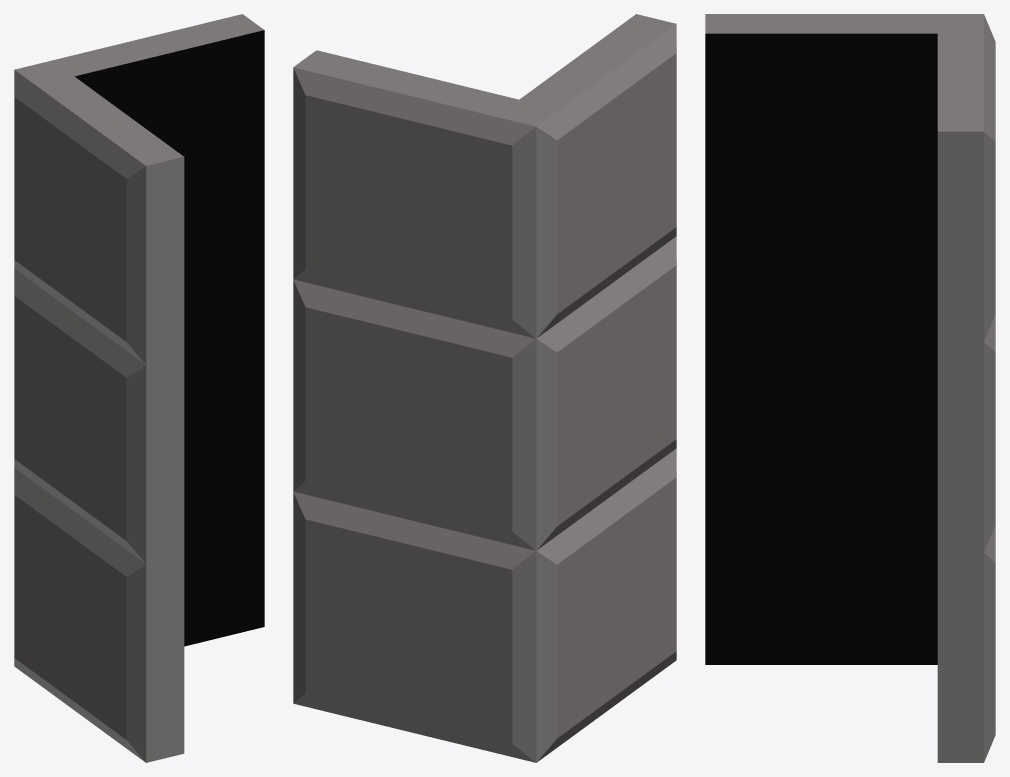
The model's file is scifi-wall-edge.glb.
The picture shows the model from 3 angles, left to right: view 1: azimuth 30°, elevation 25°; view 2: azimuth 150°, elevation 25°; view 3: azimuth 270°, elevation 25°; orthographic projection. The views are drawn at different scales.
Parts seen in each view (by area): view 1: scifi-wall-edge; view 2: scifi-wall-edge; view 3: scifi-wall-edge.
Part boxes in pixels (x1,y1,x2,y2): scifi-wall-edge: [14, 14, 264, 762]; scifi-wall-edge: [293, 14, 676, 762]; scifi-wall-edge: [705, 14, 995, 762].
Size of the model in its own units: 1.25 by 3 by 1.25.
Materials: 1 (1 with a texture image).
